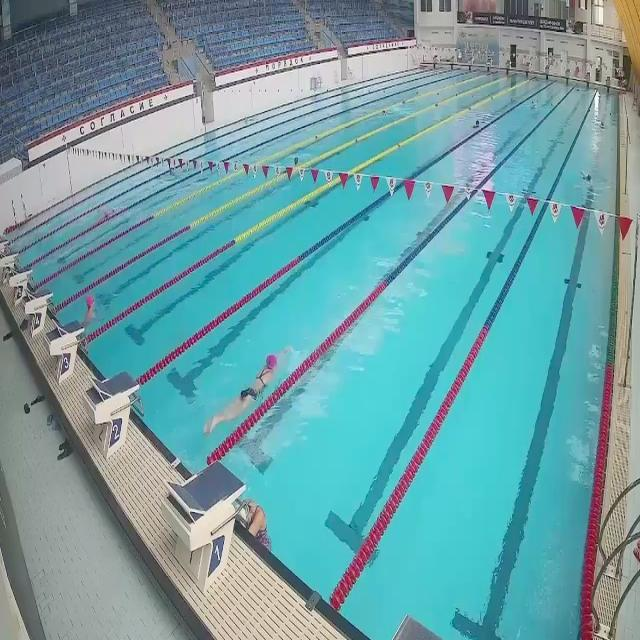Swimming: (201, 343, 303, 437), (80, 294, 96, 328)
